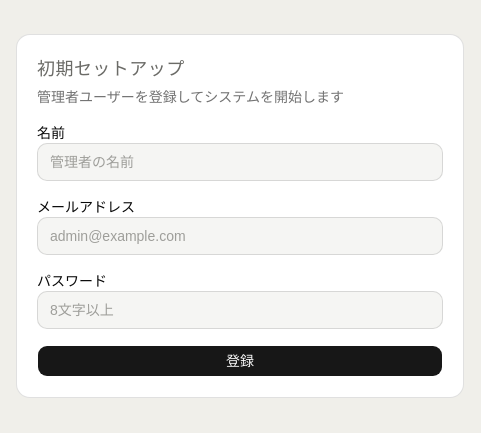
SetupPage › shows validation error when email is empty
Type "Admin" into the field labelled "名前". click: (240, 162)
box: 37,143 -> 443,181
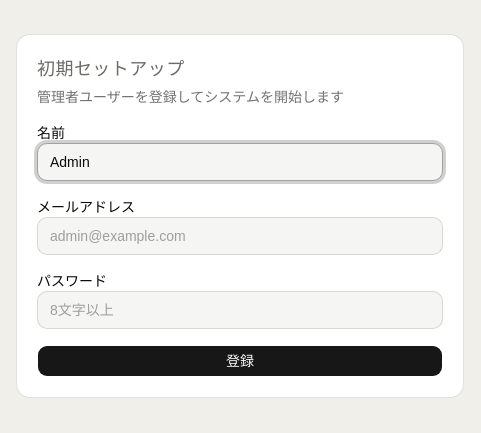
Click the button "登録". click: (240, 361)
box: 37,345 -> 443,377
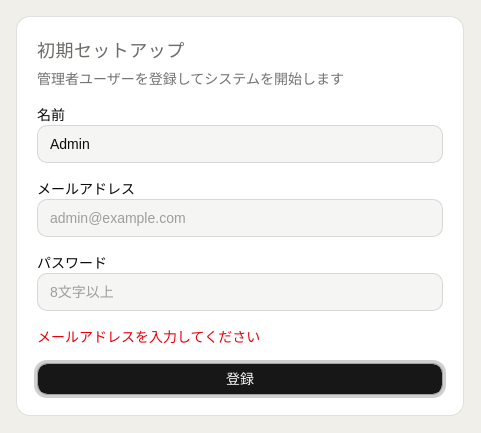
Now the text "メールアドレスを入力してください" is shown, box 37,329 -> 260,345
